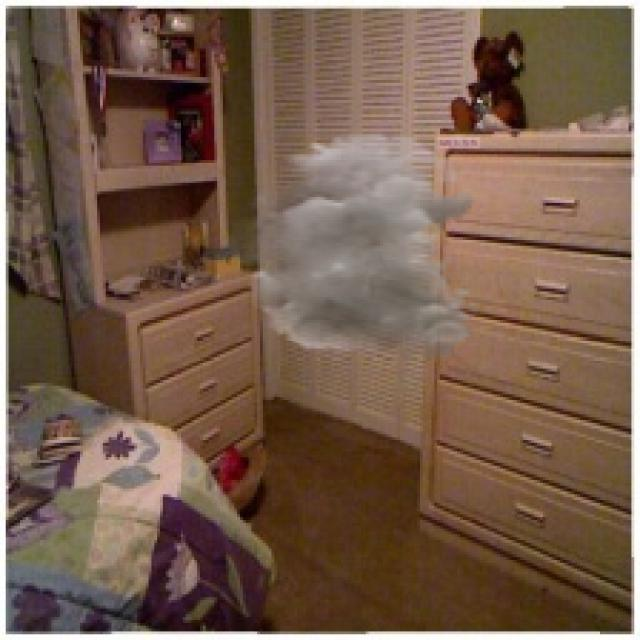Smoke: (217, 131, 483, 363)
